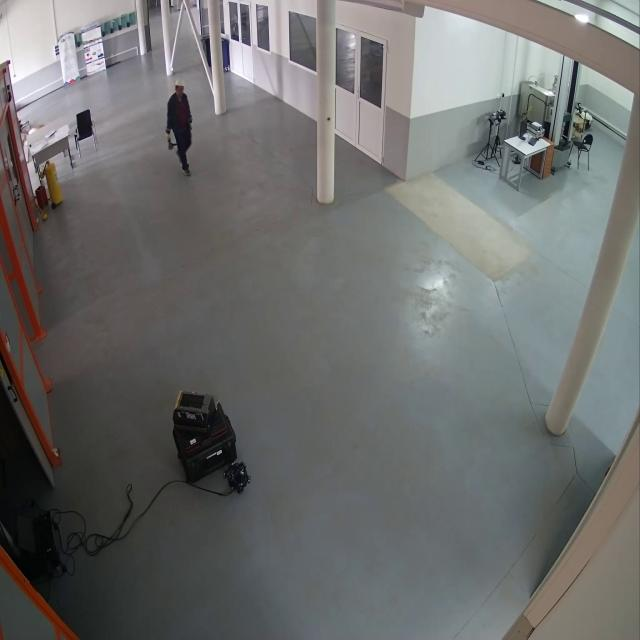Hardhat: (174, 77, 188, 88)
Person: (165, 76, 195, 178)
